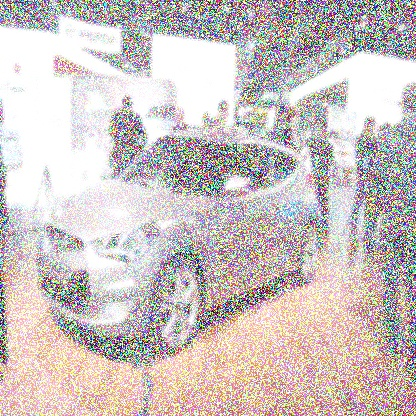Vehicle: (35, 124, 327, 357)
